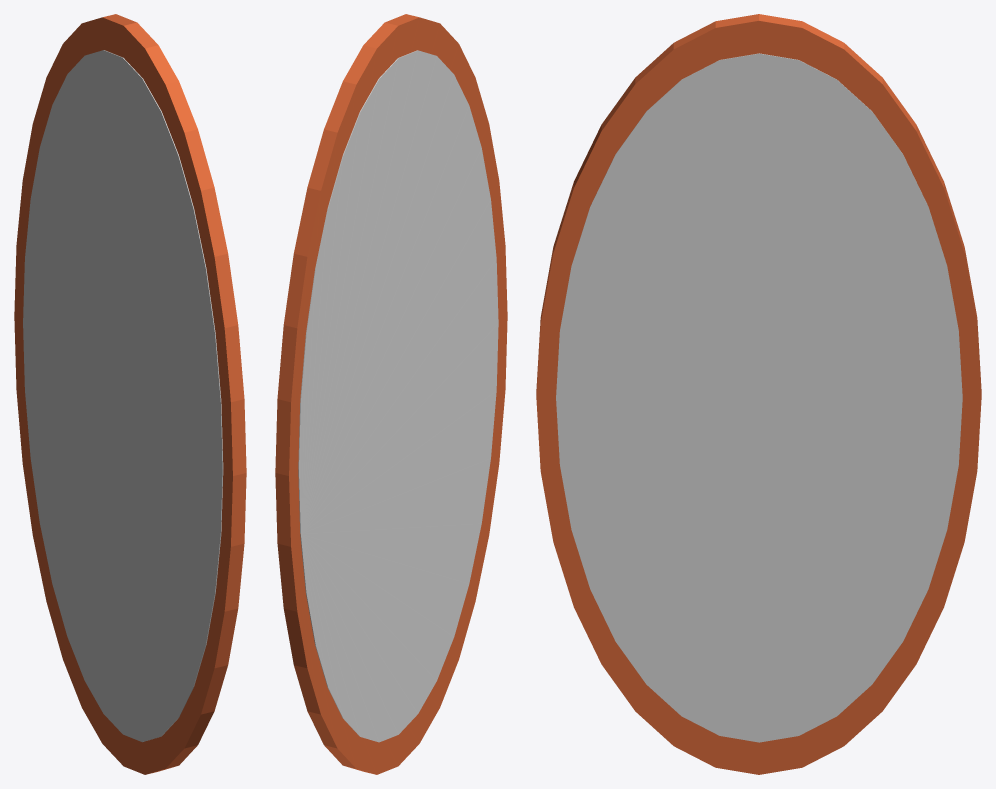
File: PortalO.fbx
The picture shows the model from 3 angles, left to right: view 1: azimuth 30°, elevation 25°; view 2: azimuth 150°, elevation 25°; view 3: azimuth 270°, elevation 25°; orthographic projection.
Parts seen in each view (by area): view 1: Orange portal, Orange portal.001; view 2: Orange portal, Orange portal.001; view 3: Orange portal, Orange portal.001.
Part boxes in pixels (bbox=[...]): Orange portal: bbox=[23, 50, 223, 742]; Orange portal.001: bbox=[14, 14, 246, 774]; Orange portal: bbox=[298, 50, 498, 742]; Orange portal.001: bbox=[275, 14, 507, 774]; Orange portal: bbox=[556, 53, 962, 742]; Orange portal.001: bbox=[536, 14, 981, 774].
Bounding box in the file's own units: 11.12 × 536 × 287.
